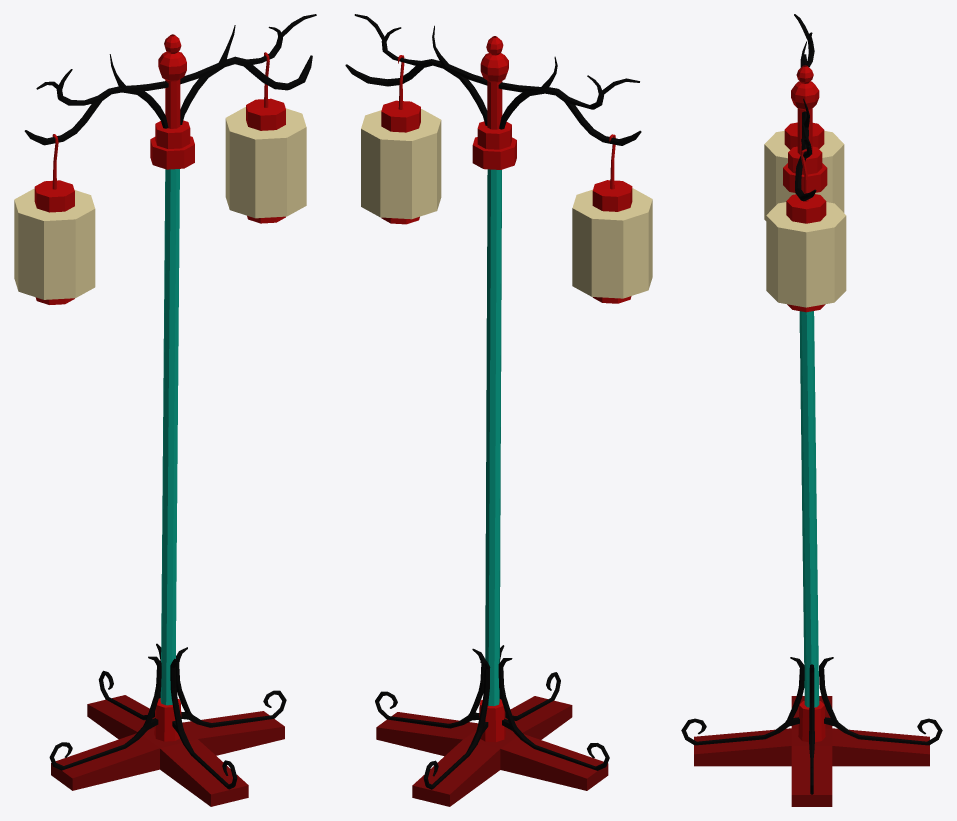
Rendered from GEO_rich_lantern_3.fbx.
3 renders of one model, left to right at view 1: azimuth 30°, elevation 25°; view 2: azimuth 150°, elevation 25°; view 3: azimuth 270°, elevation 25°, orthographic. The views are drawn at different scales.
Parts seen in each view (by area): view 1: Rich_Stolpe, Rich_Holder, Rich_Reindeer_Lantern_R, Rich_Reindeer_Lantern_R1, Rich_Gevir, Rich_Decor; view 2: Rich_Stolpe, Rich_Holder, Rich_Reindeer_Lantern_R, Rich_Reindeer_Lantern_R1, Rich_Gevir, Rich_Decor; view 3: Rich_Stolpe, Rich_Holder, Rich_Reindeer_Lantern_R1, Rich_Reindeer_Lantern_R, Rich_Decor, Rich_Gevir.
Boxes of the visible parts, x1,y1,x2,y2 form: Rich_Stolpe: (150, 34, 194, 741); Rich_Holder: (51, 695, 284, 806); Rich_Reindeer_Lantern_R: (14, 134, 95, 304); Rich_Reindeer_Lantern_R1: (225, 52, 306, 223); Rich_Gevir: (24, 14, 316, 145); Rich_Decor: (49, 643, 286, 789); Rich_Stolpe: (472, 36, 516, 742); Rich_Holder: (376, 696, 608, 806); Rich_Reindeer_Lantern_R: (572, 134, 652, 303); Rich_Reindeer_Lantern_R1: (361, 55, 441, 224); Rich_Gevir: (345, 14, 641, 145); Rich_Decor: (375, 645, 609, 789); Rich_Stolpe: (783, 65, 827, 742); Rich_Holder: (694, 696, 929, 806); Rich_Reindeer_Lantern_R1: (766, 149, 846, 312); Rich_Reindeer_Lantern_R: (764, 122, 844, 220); Rich_Decor: (681, 657, 942, 794); Rich_Gevir: (794, 14, 816, 201).
Size of the model in its own units: 131 by 301 by 103.
